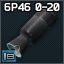AK-104 7.62x39 muzzle brake & compensator 6P46 0-20: (0, 0, 64, 64)
